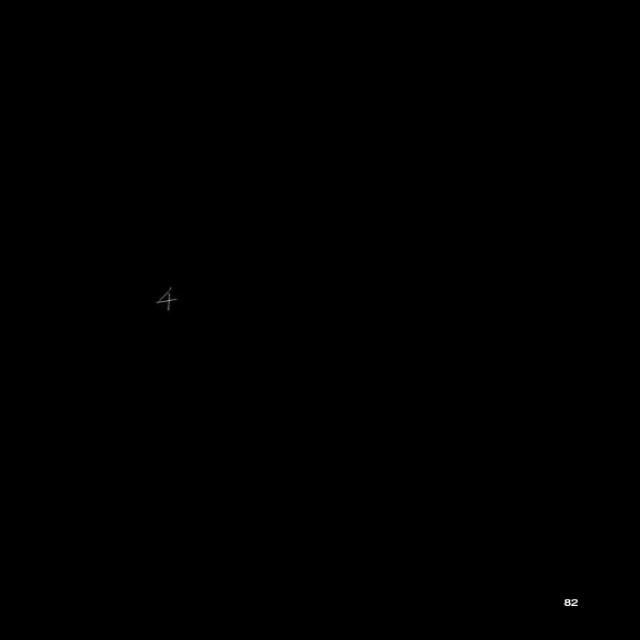1000 -a thousand-: (153, 284, 179, 312)
